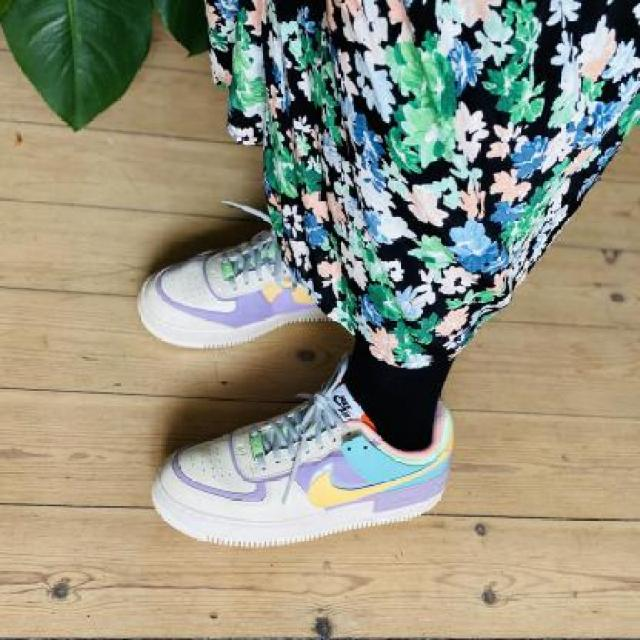shoe: (154, 371, 458, 549), (136, 222, 342, 352)
